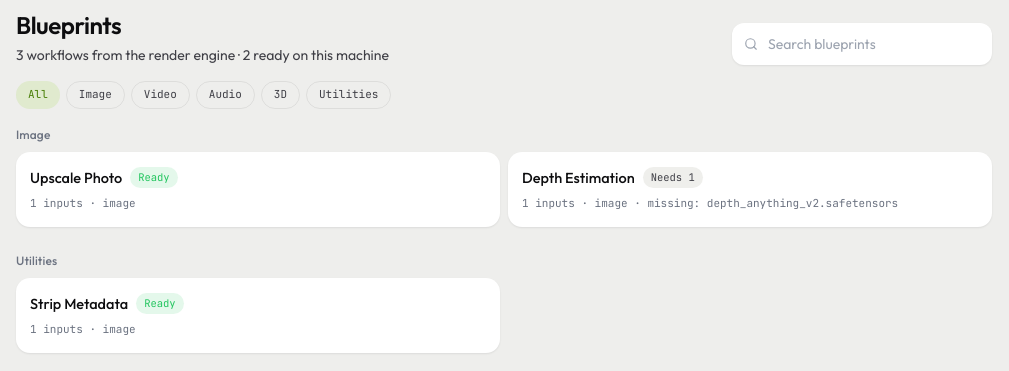
Test: BlueprintsWorkspace › search and category pills filter the catalog
Expected: the text "Upscale Photo" is shown, [30,166,122,189]
Type "depth" into the field labelled "Search blueprints" at (874, 44), box [768,33,980,55]
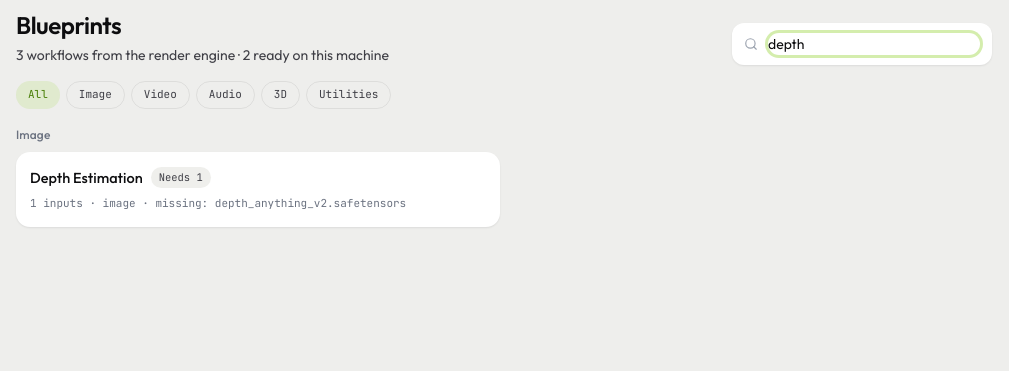
Expected: the text "Depth Estimation" is shown, [30,166,143,189]
Expected: the button "Upscale Photo" is gone
Clear the field named "Search blueprints" at (874, 44), box [768,33,980,55]
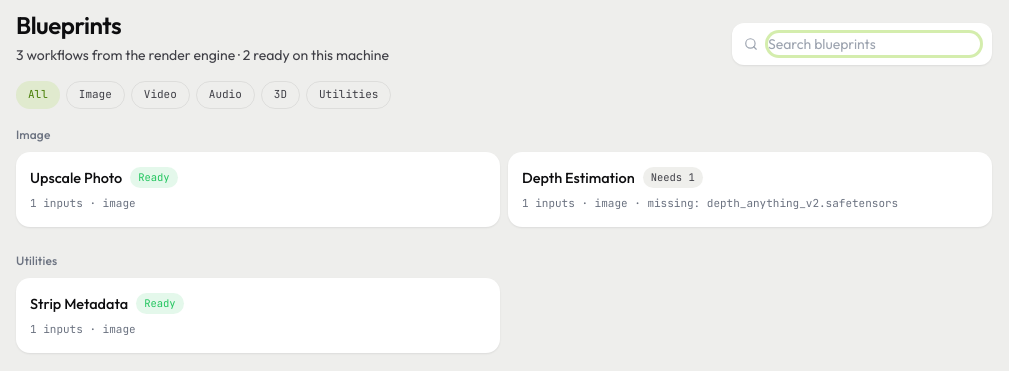
Click the button "Utilities" at (349, 95), box [306,81,391,109]
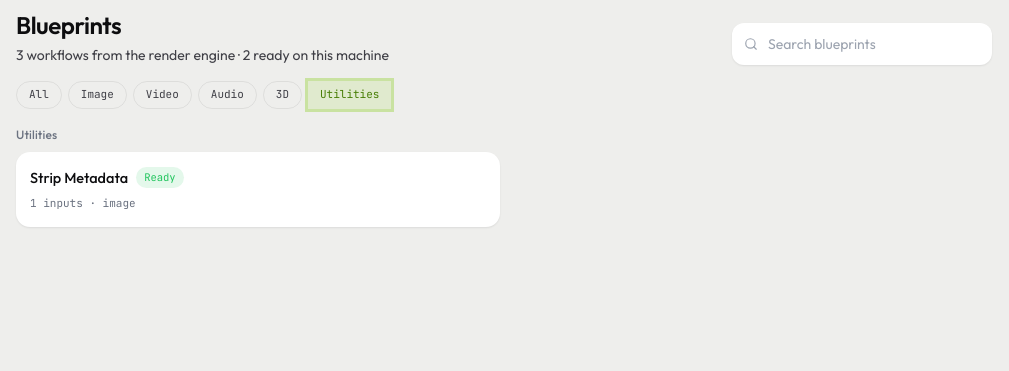
Expected: the text "Strip Metadata" is shown, [30,166,128,189]
Expected: the button "Depth Estimation" is gone
Type "zzz" into the field labelled "Search blueprints" at (874, 44), box [768,33,980,55]
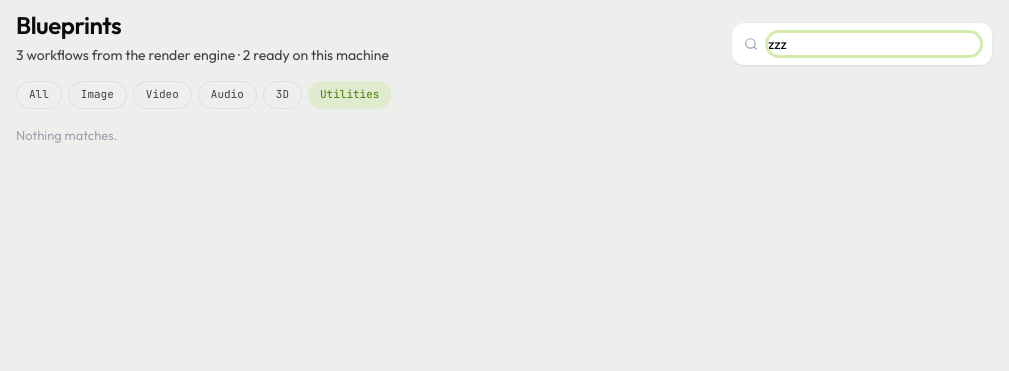
Expected: the text "Nothing matches." is shown, [16,127,118,143]
